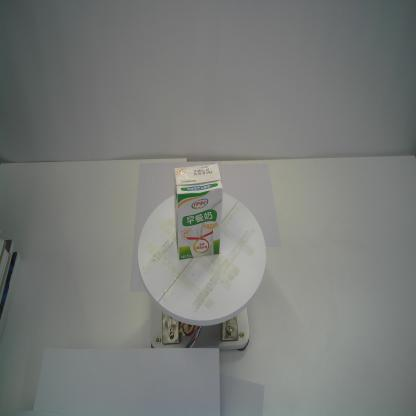Milk: (172, 163, 223, 261)
